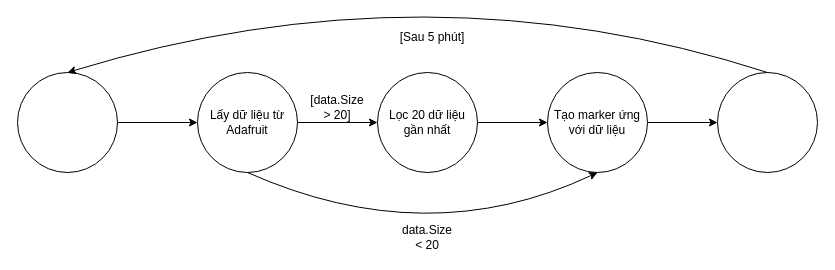
This 835x270 diagram has some shape labels left out. Here are the shapes that lost their labels. From the top down, the centre of each, then its label:
the point at 67,122: Xóa tất cả marker hiện có
the point at 767,122: Cập nhật bảng dữ liệu
